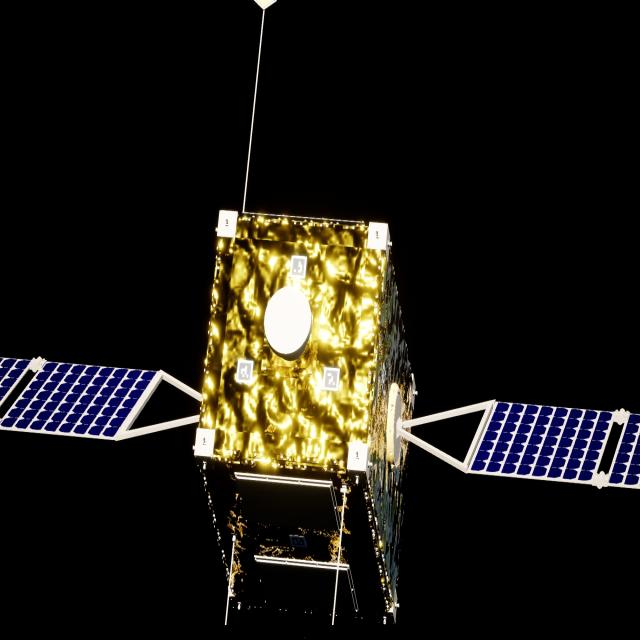satellite: (0, 210, 640, 633)
